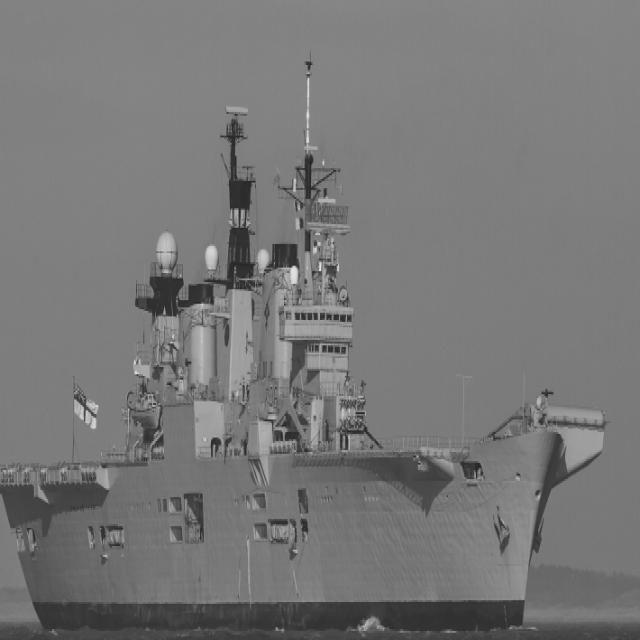Portanaves: (1, 48, 610, 639)
